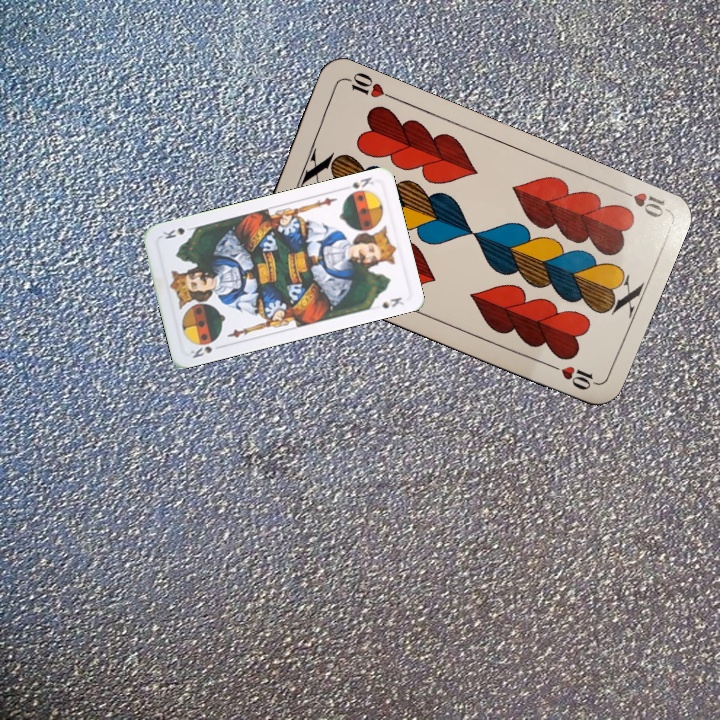H10: (612, 184, 670, 221)
SK: (338, 173, 376, 193), (186, 342, 215, 361)
